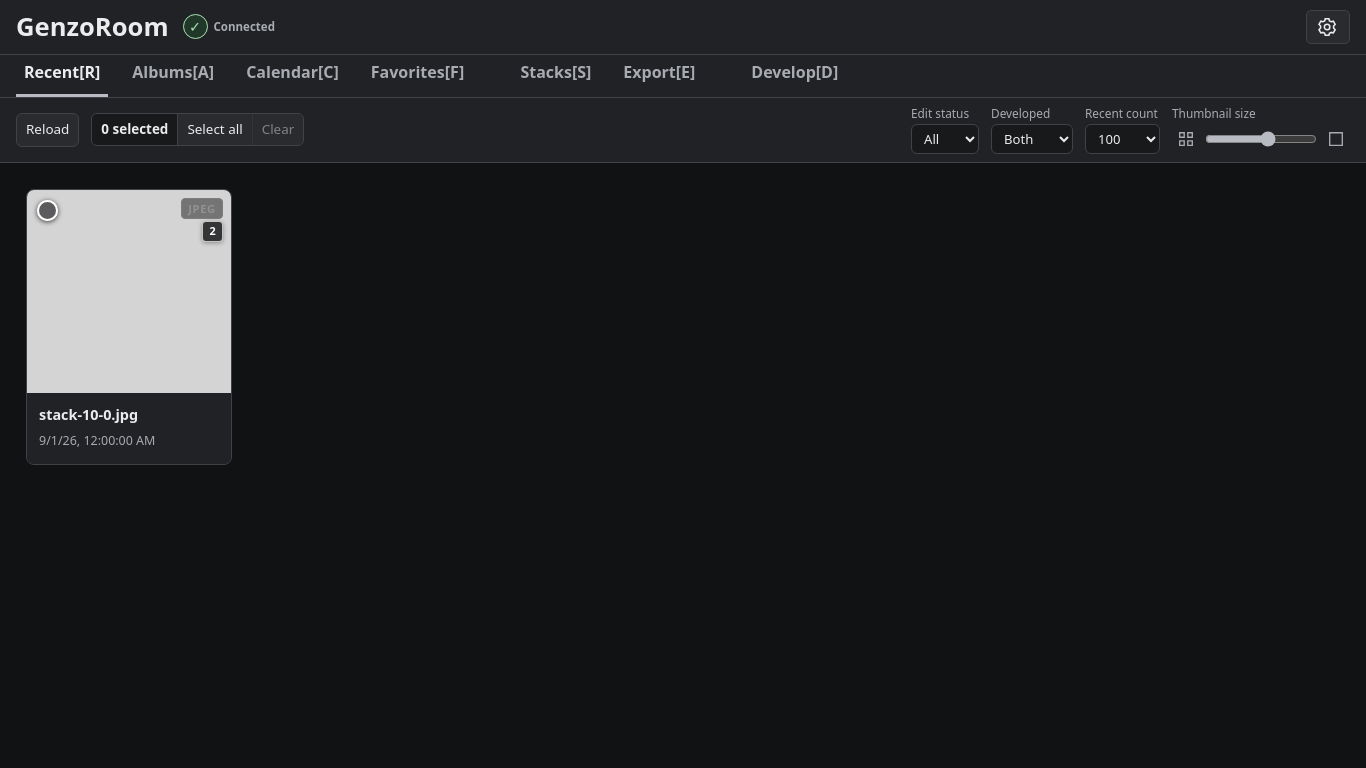
Test: Gallery Stack target navigation › reports unavailable member metadata instead of displaying an empty Queue candidate state
Right-click the element showing "stack-10-0.jpg 9/1/26, 12:00:00 AM JPEG 2": (129, 327) x1=26 y1=189 x2=232 y2=465
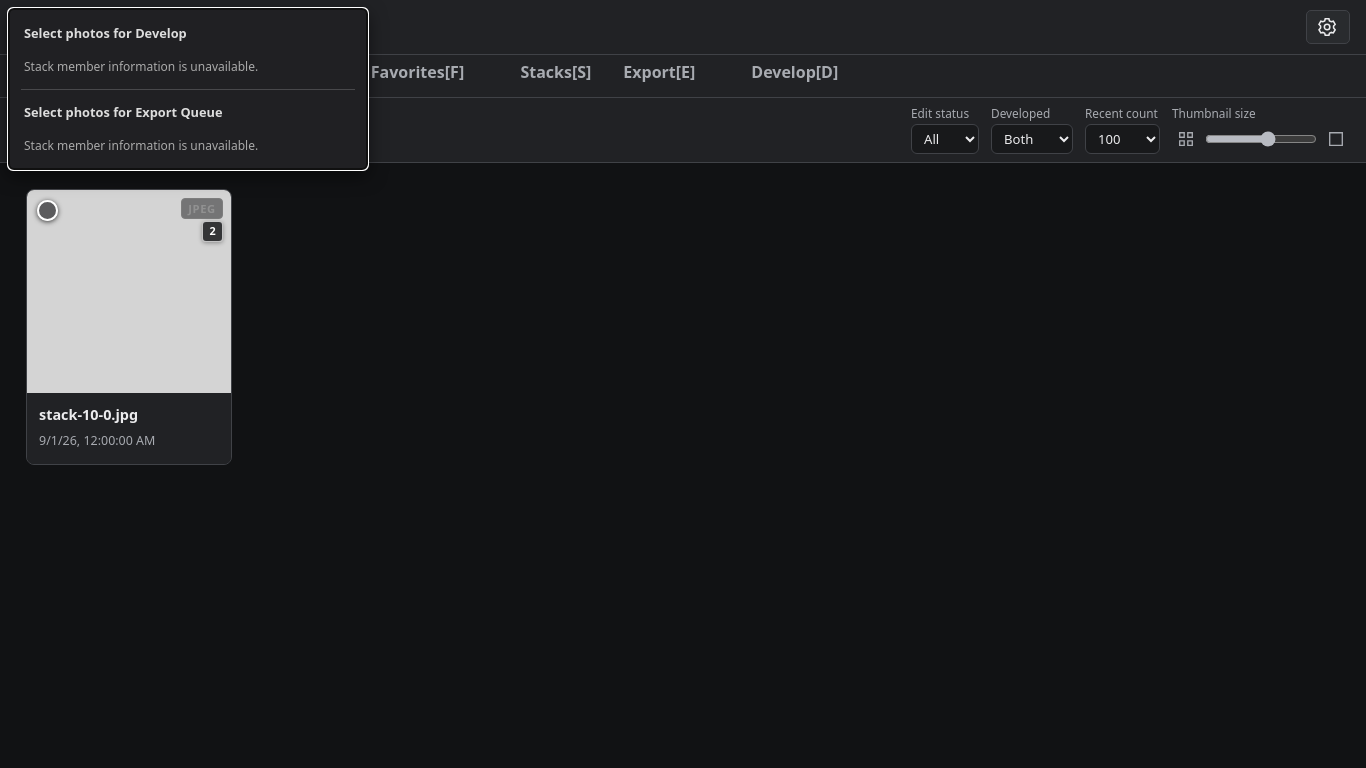
Check: the element that starts with "Select photos for Export Queue" shows "Stack member information is unavailable.", box x1=24 y1=137 x2=258 y2=154
